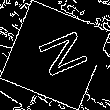N_SW: (24, 27, 86, 83)
